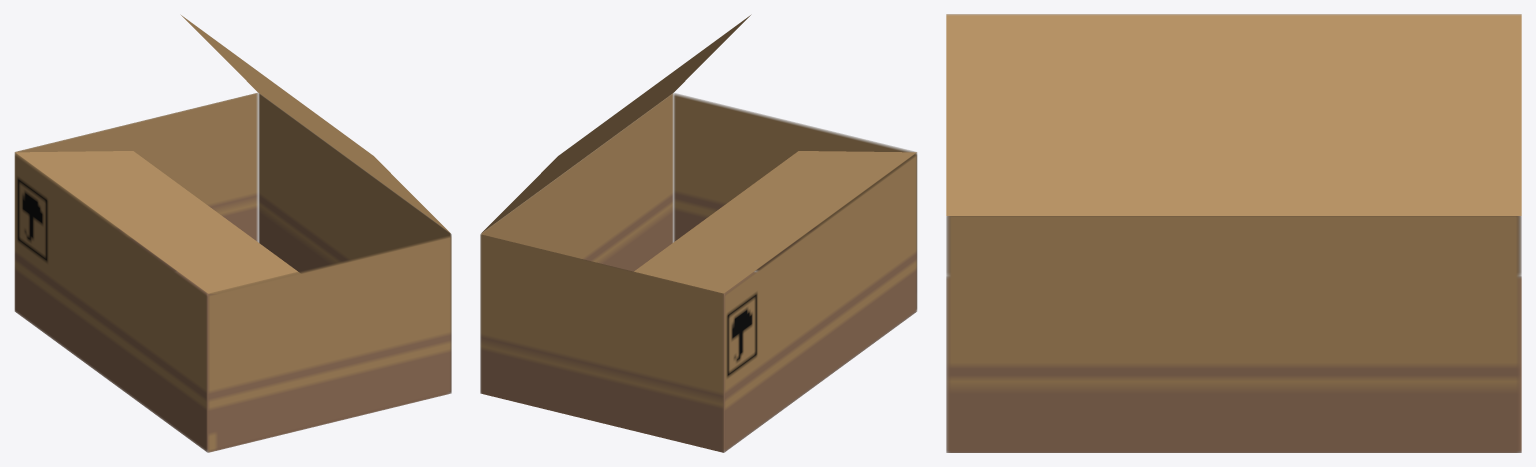
The model's file is cuboid5Opened.glb.
3 views of the same model, side by side, from view 1: azimuth 30°, elevation 25°; view 2: azimuth 150°, elevation 25°; view 3: azimuth 270°, elevation 25° (orthographic). The views are drawn at different scales.
Visible parts, largest first — view 1: plane_6; view 2: plane_6; view 3: plane_6.
Boxes of the visible parts, x1,y1,x2,y2 form: plane_6: (14, 14, 451, 452); plane_6: (480, 14, 917, 452); plane_6: (946, 14, 1521, 452).
Size of the model in its own units: 1 by 1.01 by 1.38.
1 material, 1 textured.
